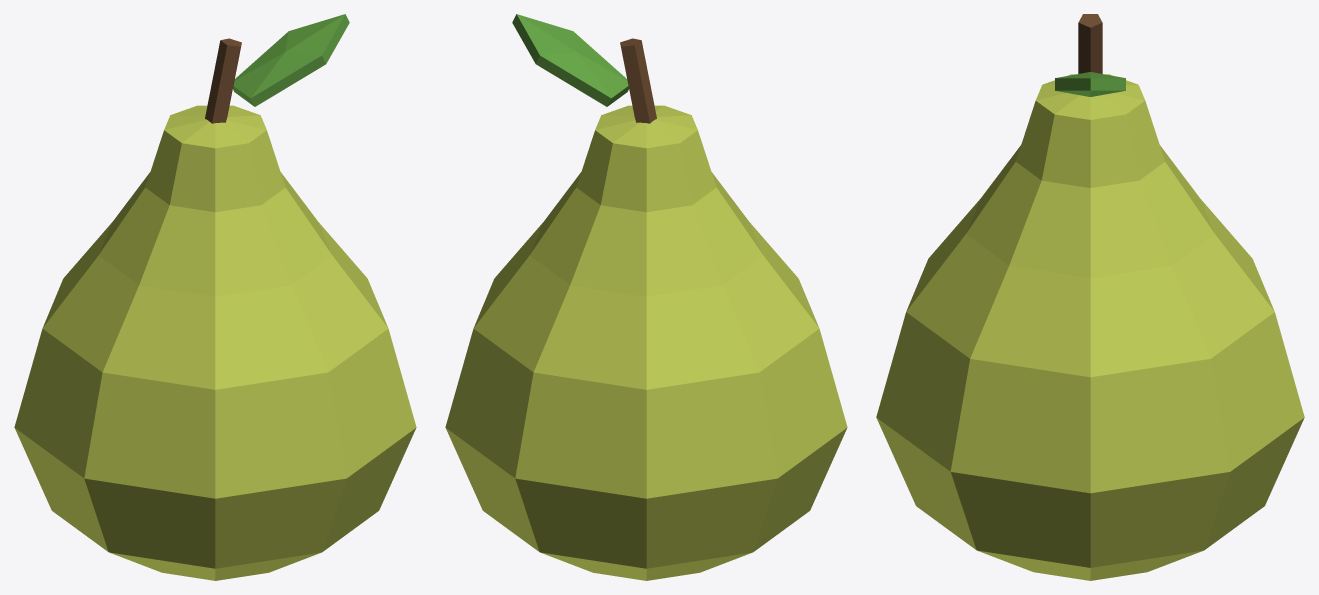
The model's file is Food_Pear.obj.
3 renders of one model, left to right at view 1: azimuth 30°, elevation 25°; view 2: azimuth 150°, elevation 25°; view 3: azimuth 270°, elevation 25°, orthographic. The views are drawn at different scales.
Size of the model in its own units: 1.67 by 2.36 by 1.69.
